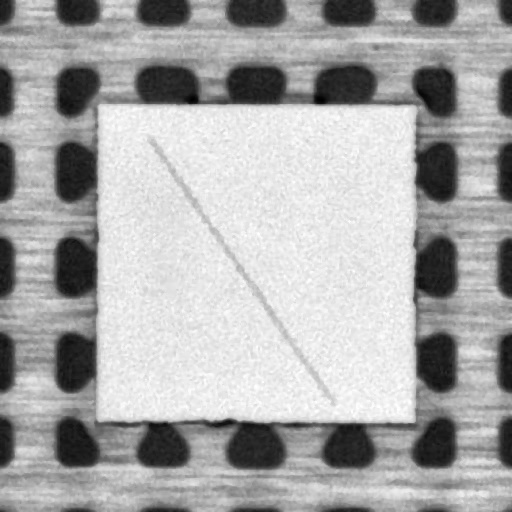DIE_CRACK: (149, 138, 332, 404)
